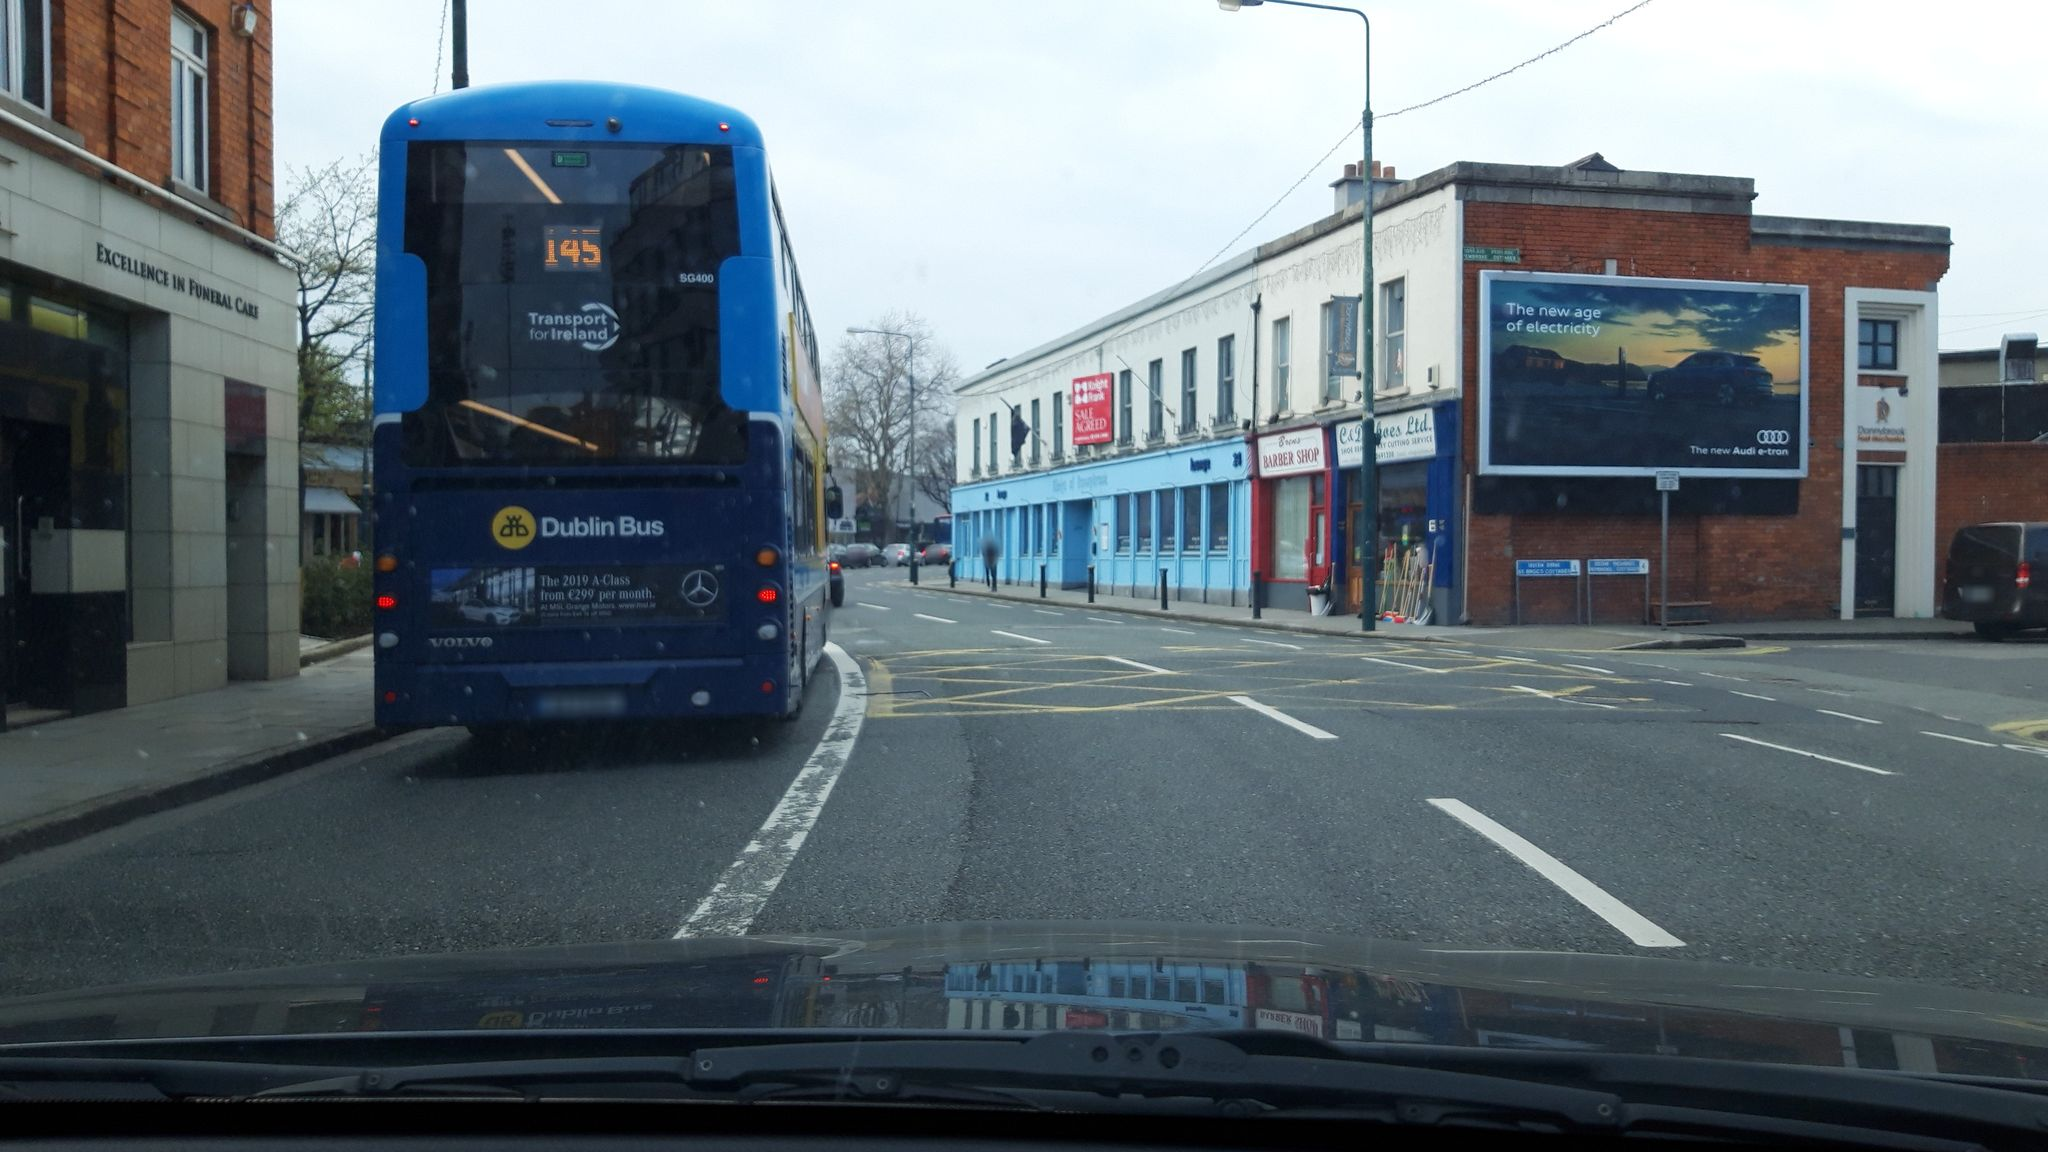property sign: (1068, 364, 1129, 461)
